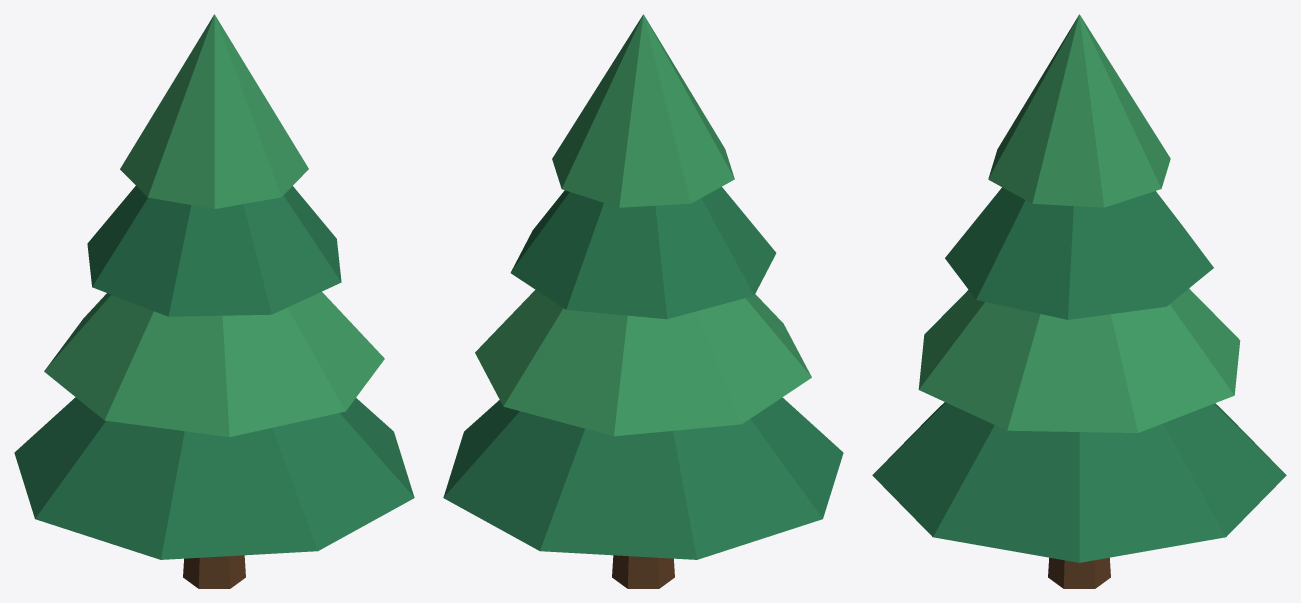
Rendered from Tree_Pine.obj.
3 renders of one model, left to right at view 1: azimuth 30°, elevation 25°; view 2: azimuth 150°, elevation 25°; view 3: azimuth 270°, elevation 25°, orthographic.
Parts seen in each view (by area): view 1: Pine, PineLight, Trunk; view 2: Pine, PineLight, Trunk; view 3: Pine, PineLight, Trunk.
Part boxes in pixels (<box>): Pine: <box>14,186,414,559</box>; PineLight: <box>44,14,384,436</box>; Trunk: <box>183,555,245,588</box>; Pine: <box>443,187,843,559</box>; PineLight: <box>475,14,811,436</box>; Trunk: <box>612,555,674,588</box>; Pine: <box>872,187,1286,562</box>; PineLight: <box>918,14,1240,432</box>; Trunk: <box>1048,557,1110,588</box>.
Size of the model in its own units: 9.2 by 13.8 by 9.2.
